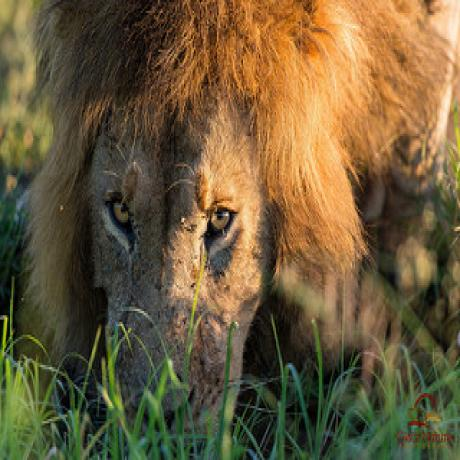Lion: (0, 0, 460, 430)
